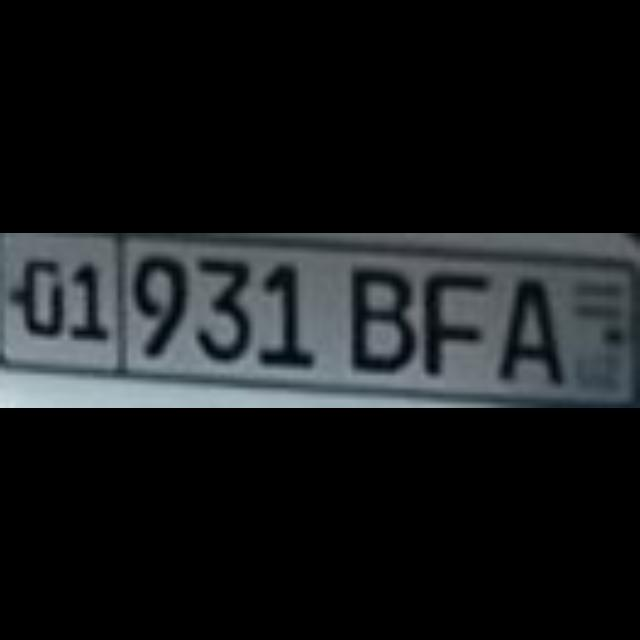0: (15, 252, 59, 334)
1: (249, 252, 313, 364), (64, 257, 102, 335)
3: (190, 256, 250, 360)
9: (127, 252, 181, 354)
A: (494, 272, 562, 378)
B: (347, 262, 411, 368)
F: (420, 266, 484, 368)
